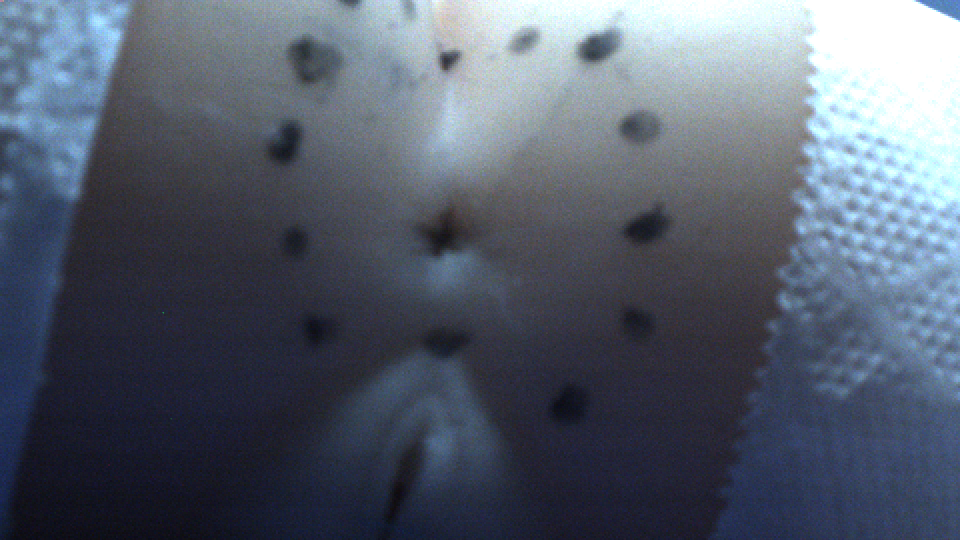asarp_marker: (281, 33, 349, 87), (421, 320, 486, 366), (615, 205, 674, 252), (575, 23, 630, 65), (617, 105, 666, 151), (551, 380, 595, 424), (619, 298, 660, 345), (268, 119, 308, 161), (508, 17, 545, 60), (301, 310, 342, 348), (280, 225, 316, 262)
